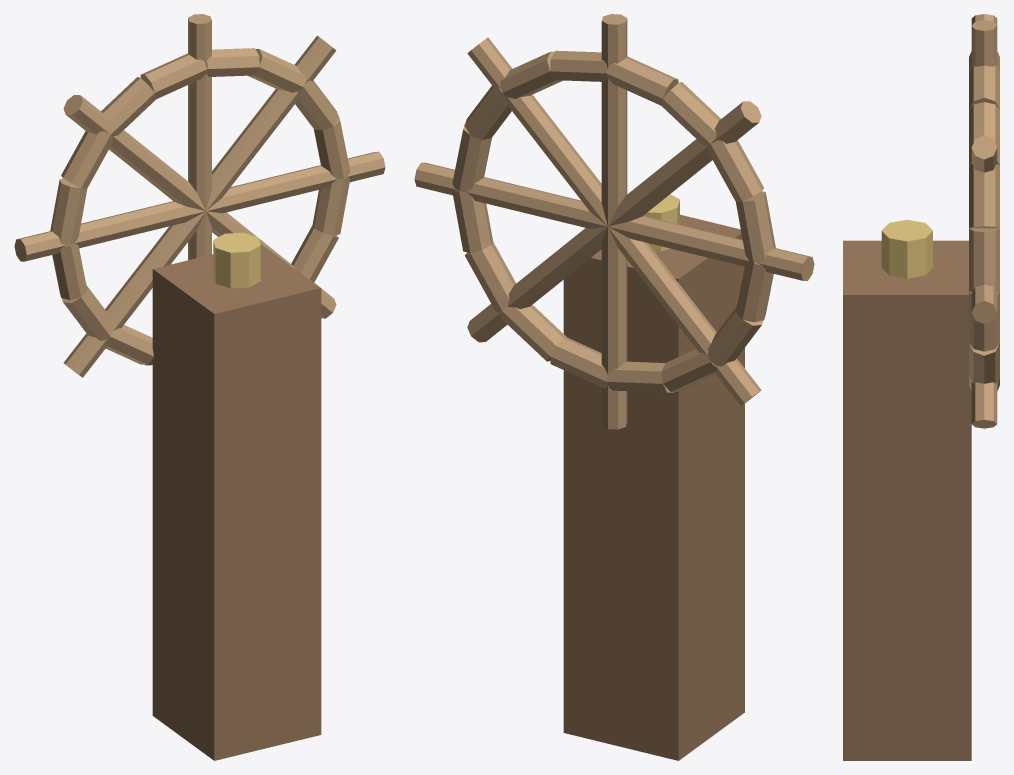
File: captain_wheel.glb
3 views of the same model, side by side, from view 1: azimuth 30°, elevation 25°; view 2: azimuth 150°, elevation 25°; view 3: azimuth 270°, elevation 25° (orthographic). The views are drawn at different scales.
Visible parts, largest first — view 1: captain_wheel; view 2: captain_wheel; view 3: captain_wheel.
Boxes of the visible parts, left/top/right/bottom form: captain_wheel: left=14, top=14, right=385, bottom=760; captain_wheel: left=414, top=14, right=814, bottom=760; captain_wheel: left=843, top=14, right=999, bottom=760.
Size of the model in its own units: 0.84 by 1.52 by 0.305.
